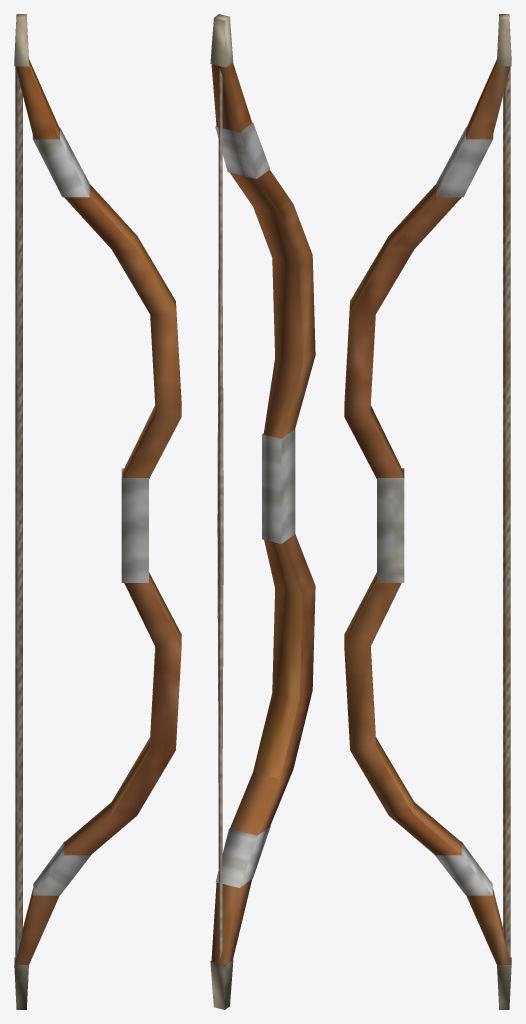
The model's file is bow-short.glb.
3 views of the same model, side by side, from view 1: azimuth 90°, elevation 25°; view 2: azimuth 150°, elevation 25°; view 3: azimuth 270°, elevation 25° (orthographic).
Visible parts, largest first — view 1: Bow - Greek_static; view 2: Bow - Greek_static; view 3: Bow - Greek_static.
Boxes of the visible parts, x1,y1,x2,y2 form: Bow - Greek_static: (14, 14, 181, 1009); Bow - Greek_static: (210, 14, 315, 1009); Bow - Greek_static: (344, 14, 511, 1009).
Bounding box in the file's own units: 0.0899 × 2.92 × 0.4469.
Materials: 1 (1 with a texture image).
